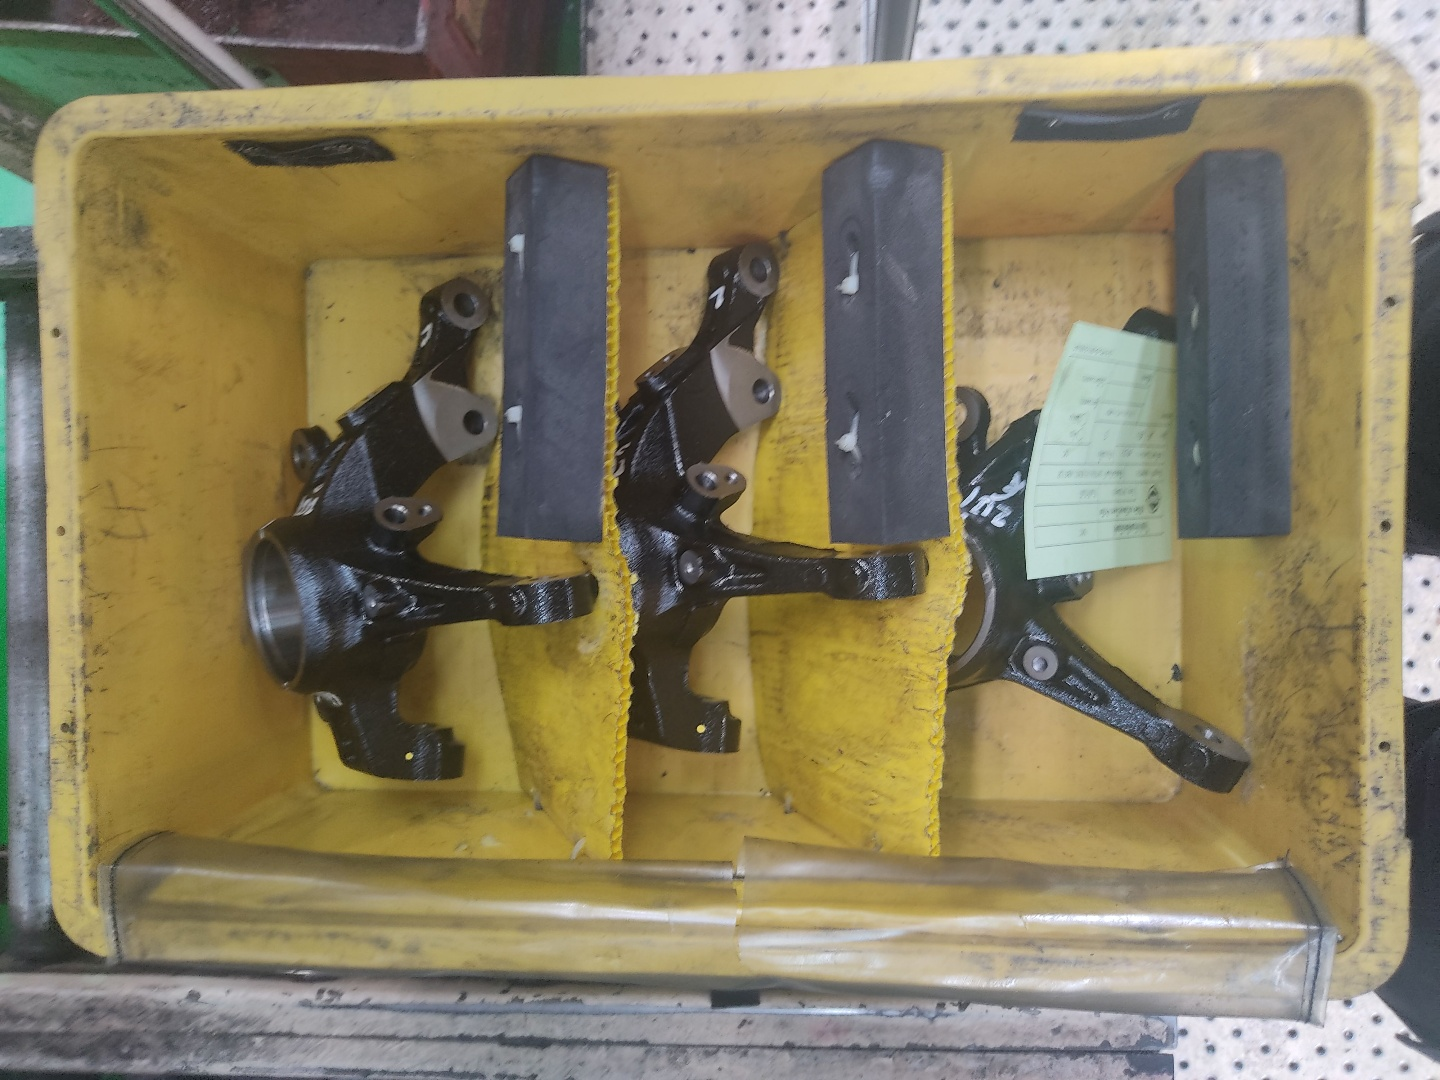abs-lh: (225, 270, 604, 793), (608, 235, 935, 766), (942, 288, 1257, 800)
